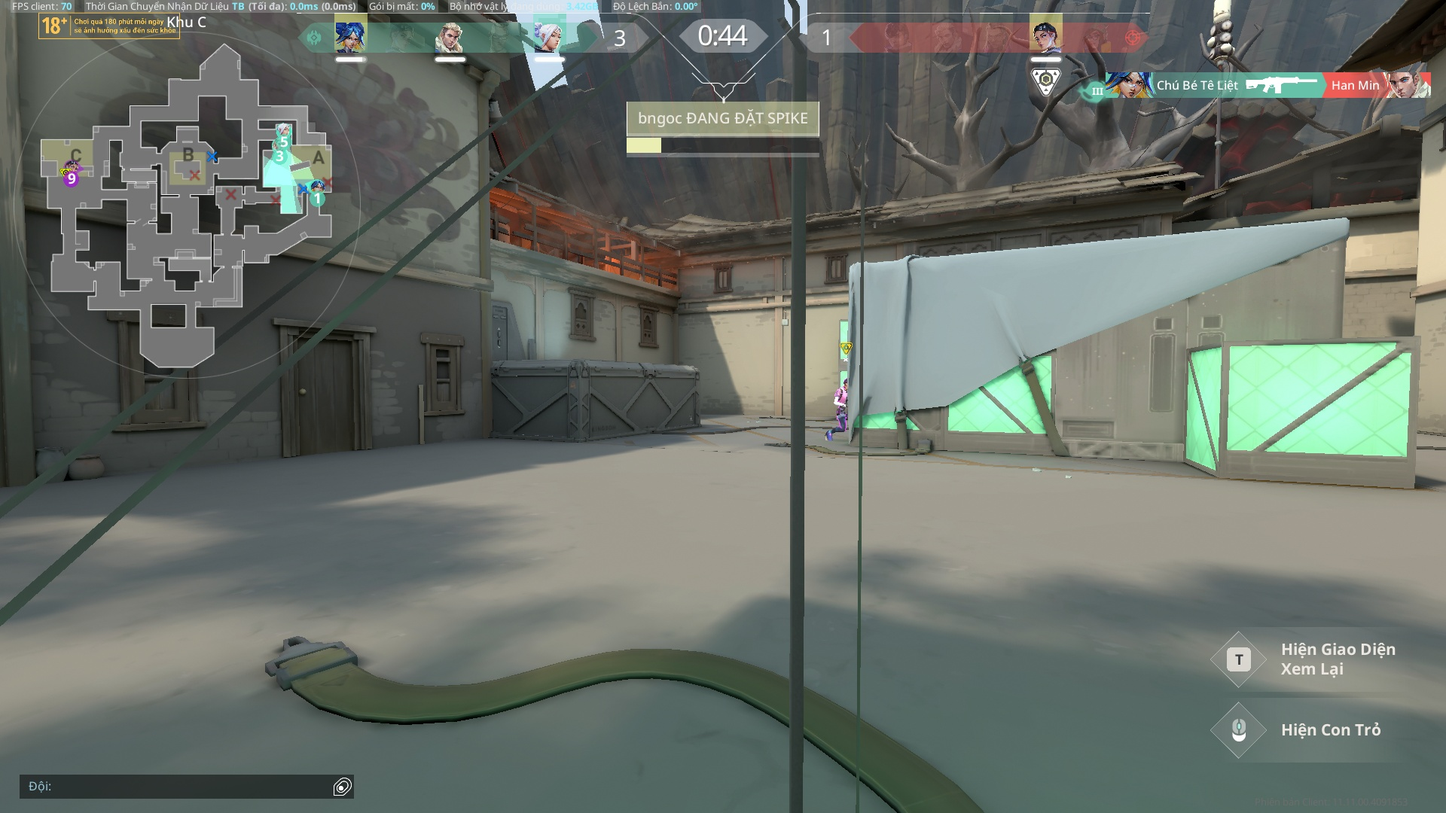body: (835, 386, 848, 409)
head: (843, 377, 848, 387)
